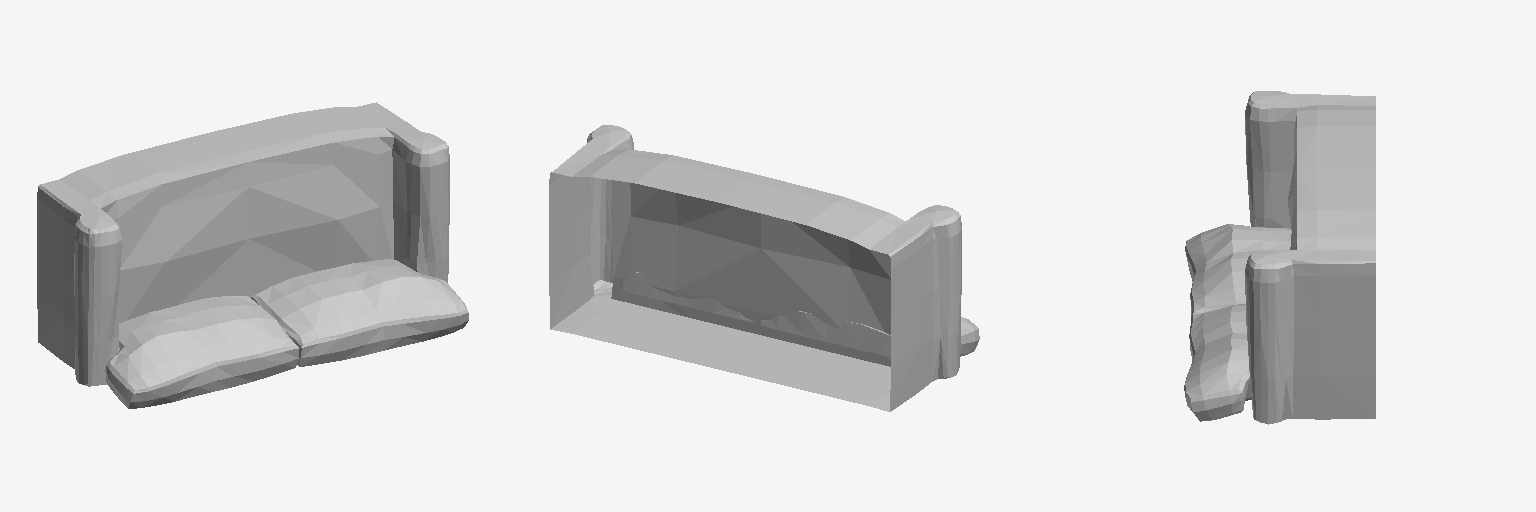
Rendered from sofa01_din_ao_00453d2d.obj.
3 renders of one model, left to right at view 1: azimuth 30°, elevation 25°; view 2: azimuth 150°, elevation 25°; view 3: azimuth 270°, elevation 25°, orthographic.
Visible parts, largest first — view 1: sofa01_din_ao_alt; view 2: sofa01_din_ao_alt; view 3: sofa01_din_ao_alt.
Boxes of the visible parts, x1,y1,x2,y2 form: sofa01_din_ao_alt: [37, 102, 468, 408]; sofa01_din_ao_alt: [549, 125, 979, 411]; sofa01_din_ao_alt: [1184, 91, 1375, 424].
Size of the model in its own units: 103 by 47.44 by 46.56.